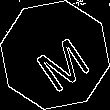M_NW: (22, 21, 88, 89)
